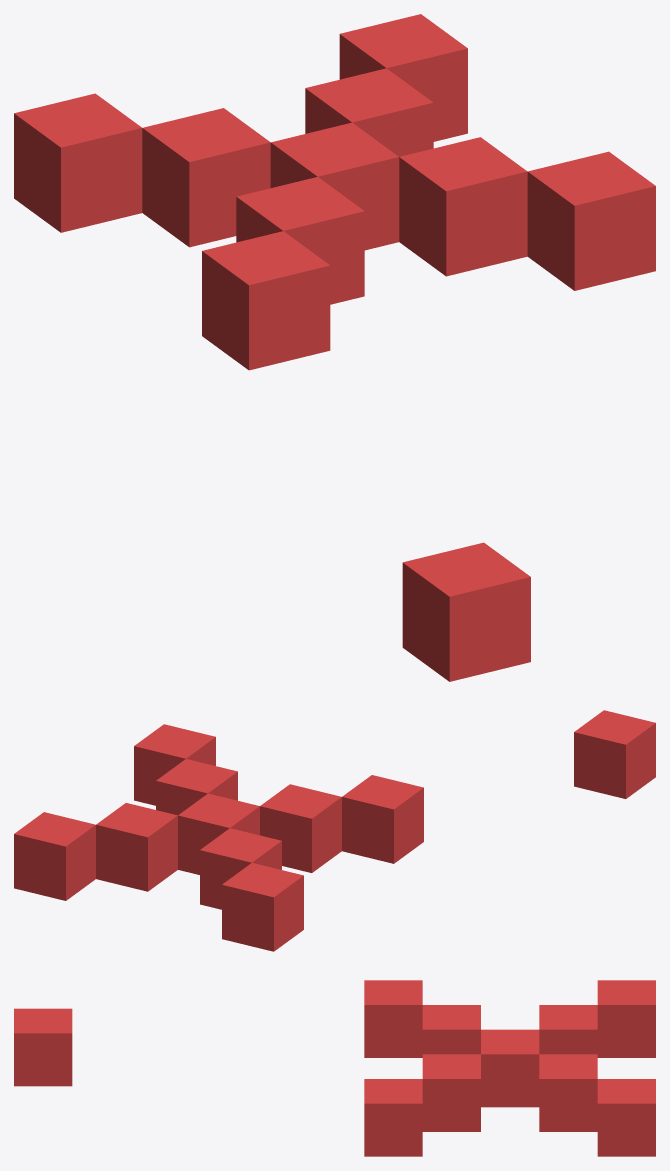
Rendered from Sign-False.obj.
3 renders of one model, top to bottom at view 1: azimuth 30°, elevation 25°; view 2: azimuth 150°, elevation 25°; view 3: azimuth 270°, elevation 25°, orthographic. The views are drawn at different scales.
Bounding box in the file's own units: 0.6 × 0.2 × 1.1.
